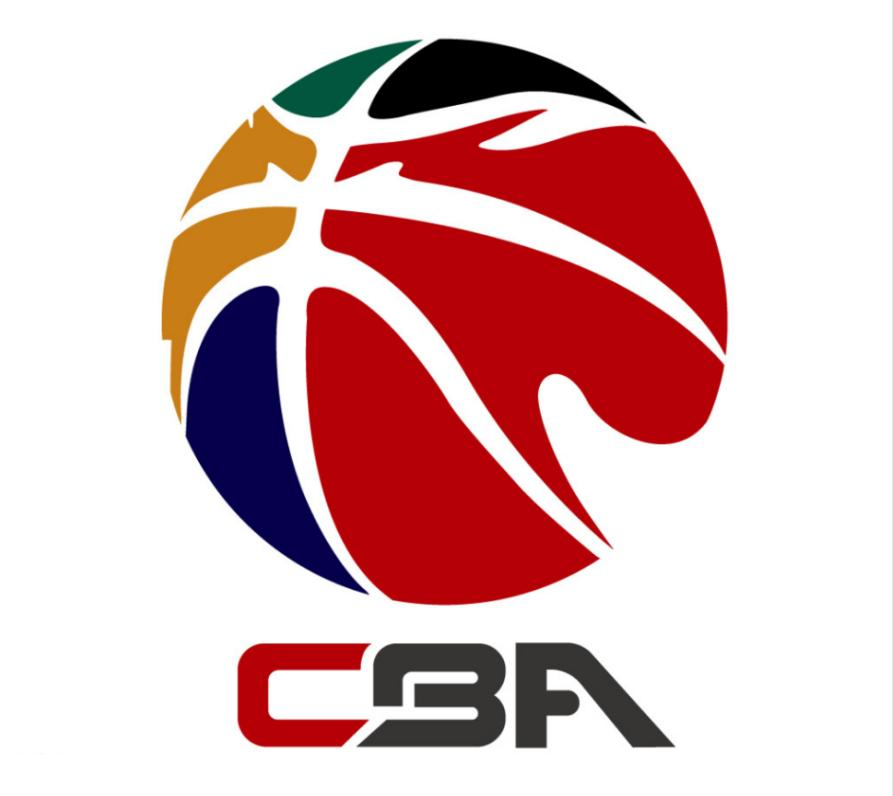ball: (161, 39, 732, 607)
